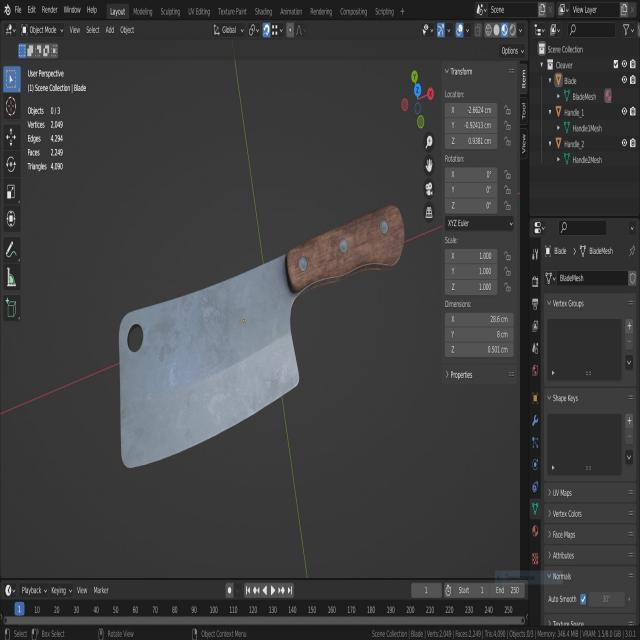cleaver: (118, 201, 406, 468)
